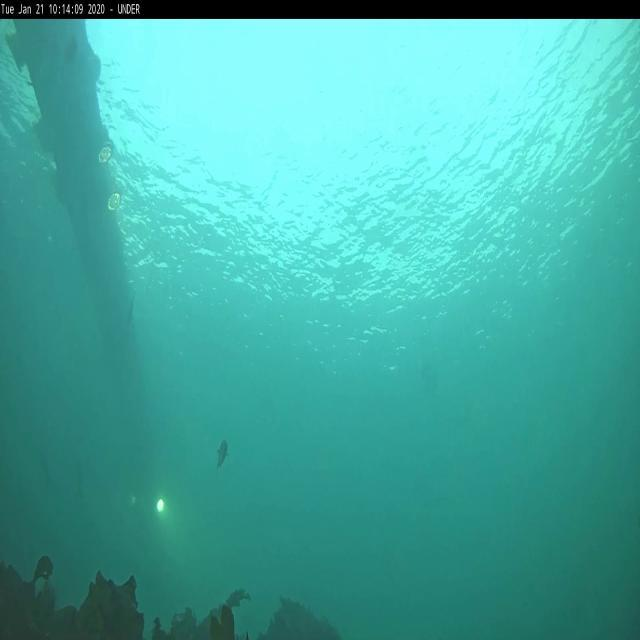fish: (216, 438, 230, 466), (126, 290, 136, 326), (76, 458, 82, 500)
